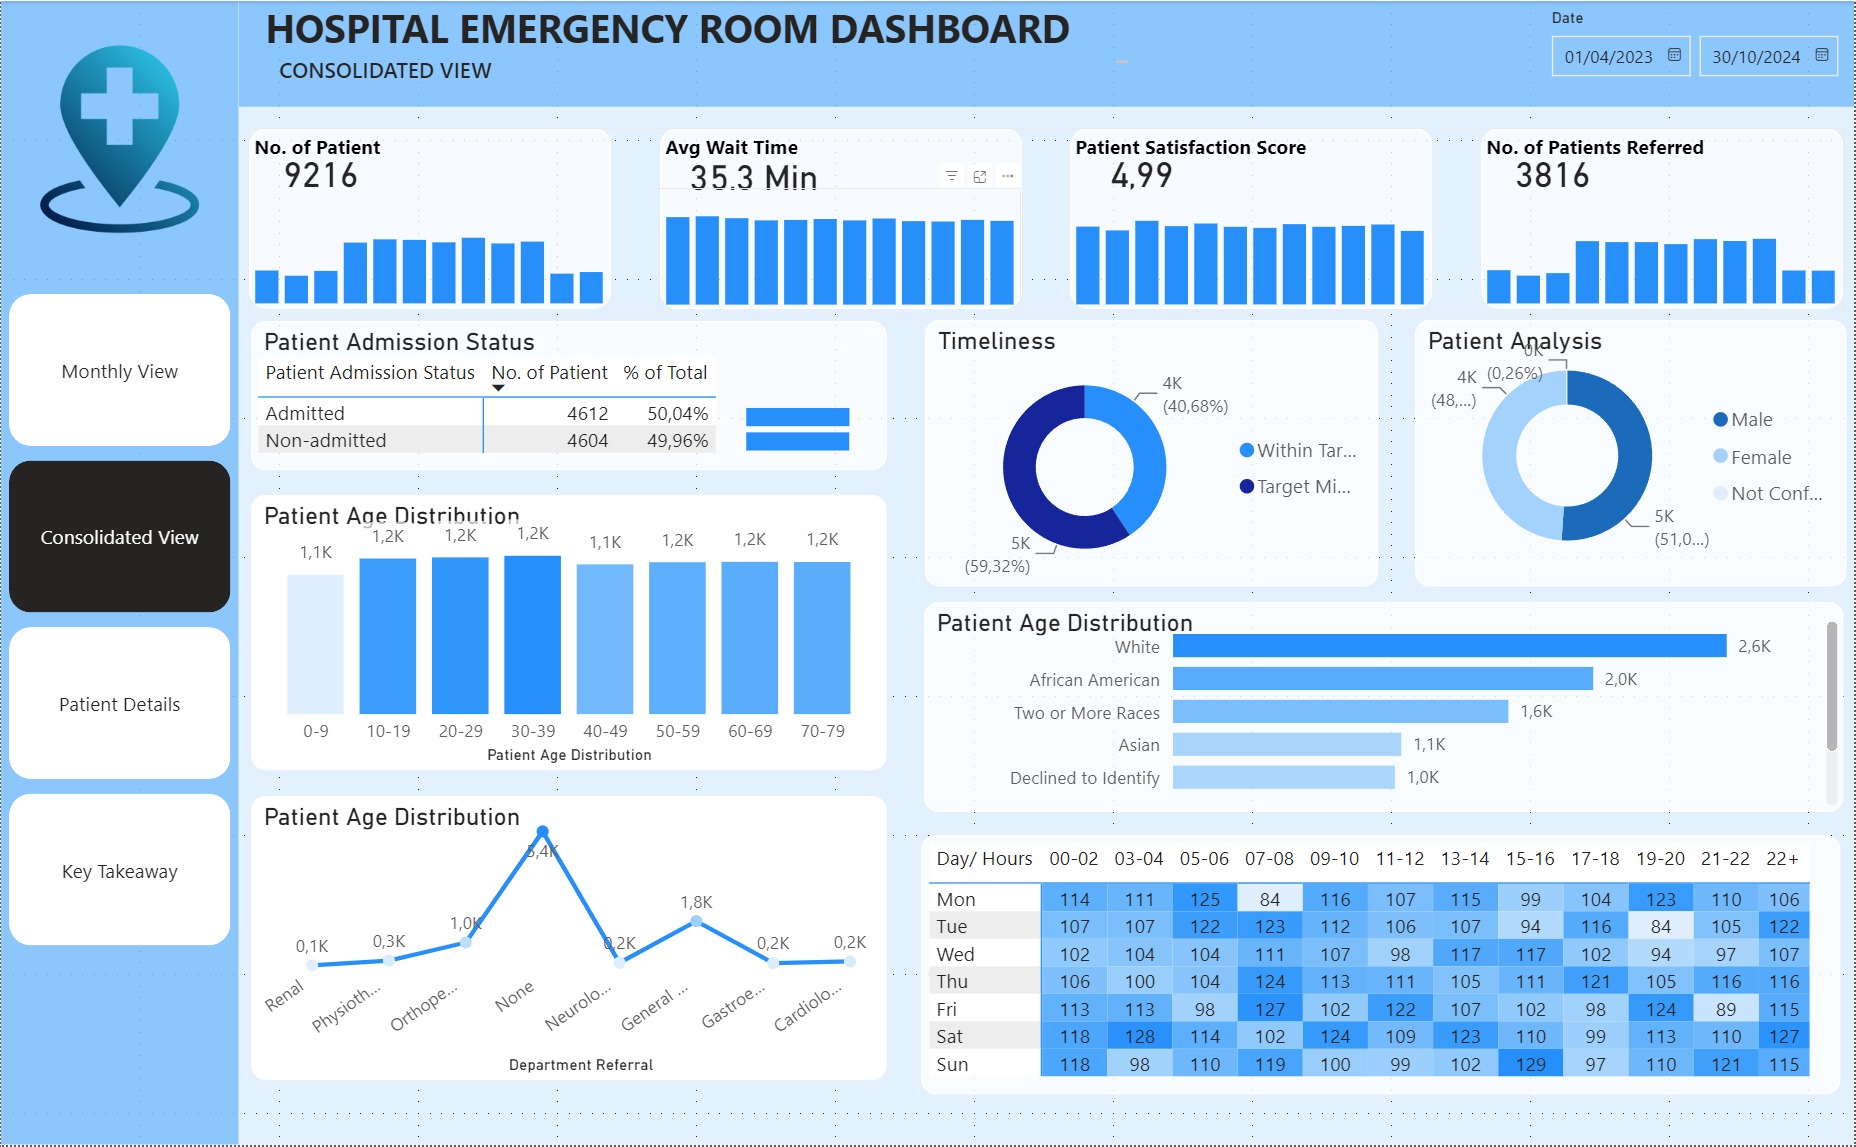

The dashboard page shown, as its layout file describes it:
{"tool":"powerbi","page":{"name":"Consolidated View","canvas":[1280,790],"ordinal":1},"visuals":[{"type":"shape","box":[0,0,164.5,789.7],"z":0},{"type":"shape","box":[171.6,87.7,250.5,124.8],"z":0,"group":"g4"},{"type":"shape","box":[455.6,87.7,250.2,125.1],"z":0,"group":"g3"},{"type":"shape","box":[738.8,87.7,250.5,124.8],"z":0,"group":"g2"},{"type":"group","id":"g1","title":"No. of Patients Referred","box":[1021.8,87.7,251.1,127.1],"z":0,"group":"g12"},{"type":"shape","box":[1022.4,87.7,250.5,124.8],"z":0,"group":"g1"},{"type":"textbox","title":"Timeliness","box":[638.3,220.4,313.5,183.8],"z":0,"group":"g8"},{"type":"textbox","title":"Patient Analysis","box":[976.7,220.4,297.7,184.2],"z":0,"group":"g9"},{"type":"textbox","title":"Patient Admission Status","box":[172.6,220.7,439.2,102.8],"z":0,"group":"g5"},{"type":"textbox","title":"Patient Age Distribution","box":[172.6,341.3,439.1,190.3],"z":0,"group":"g6"},{"type":"textbox","title":"Patient Age Distribution","box":[637.8,414.9,635,145.3],"z":0,"group":"g10"},{"type":"textbox","title":"Patient Age Distribution","box":[172.6,548.7,439.1,196.2],"z":0,"group":"g7"},{"type":"textbox","title":"Patient Age Distribution","box":[635.3,576,635.3,178.6],"z":500,"group":"g11"},{"type":"shape","box":[164.2,0,1115.6,73.5],"z":1000},{"type":"group","id":"g2","title":"Patient Satisfaction Score","box":[737.8,87.7,251.5,127.7],"z":1000,"group":"g12"},{"type":"card","fields":{"Values":["Hospital ER_Data.No Of Patient"]},"box":[174.1,95,93.5,47.9],"z":1000,"group":"g4"},{"type":"card","fields":{"Values":["Hospital ER_Data.Avg Patient Satisfaction Score"]},"box":[741.3,95,93.5,47.9],"z":1000,"group":"g2"},{"type":"card","fields":{"Values":["Hospital ER_Data.No. of Patients Referred"]},"box":[1024.9,95,93.5,47.9],"z":1000,"group":"g1"},{"type":"card","fields":{"Values":["Hospital ER_Data.Average Wait Time"]},"box":[458.4,99.4,124.3,43.9],"z":1000,"group":"g3"},{"type":"donutChart","fields":{"Category":["Hospital ER_Data.Patient Gender"],"Y":["Hospital ER_Data.No Of Patient"]},"box":[976.8,224.1,297.3,180.3],"z":1000,"group":"g9"},{"type":"donutChart","title":"No. of Patient by Patient Age Distribution","fields":{"Y":["Hospital ER_Data.Timeliness","Hospital ER_Data.Without Timeliness"]},"box":[637.8,238.8,314.1,165.8],"z":1000,"group":"g8"},{"type":"barChart","fields":{"Category":["Hospital ER_Data.Patient Admission Status"],"Y":["Hospital ER_Data.No Of Patient"]},"box":[509.8,259.1,102.7,65.1],"z":1000,"group":"g5"},{"type":"lineClusteredColumnComboChart","title":"No. of Patient by Patient Age Distribution","fields":{"Category":["Hospital ER_Data.Patient Age Distribution"],"Y":["Hospital ER_Data.No Of Patient"]},"box":[172.6,341.3,439.9,190.3],"z":1000,"group":"g6"},{"type":"clusteredBarChart","title":"No. of Patient by Patient Age Distribution","fields":{"Category":["Hospital ER_Data.Patient Race"],"Y":["Hospital ER_Data.No Of Patient"]},"box":[637.8,414.9,636.2,145.3],"z":1000,"group":"g10"},{"type":"lineChart","title":"No. of Patient by Patient Age Distribution","fields":{"Category":["Hospital ER_Data.Department Referral"],"Y":["Hospital ER_Data.No Of Patient"]},"box":[172.6,548.7,439.9,196.2],"z":1000,"group":"g7"},{"type":"pivotTable","fields":{"Values":["Hospital ER_Data.No Of Patient"],"Columns":["Hospital ER_Data.Patient volumne by day and hour"],"Rows":["Date Table.Day"]},"box":[635.9,576.8,635.3,177],"z":1000,"group":"g11"},{"type":"textbox","title":"HOSPITAL EMERGENCY ROOM DASHBOARD","box":[177.4,0,605.8,48.3],"z":2000},{"type":"group","id":"g3","title":"Avg Wait Time","box":[454.8,87.7,251,127.7],"z":2000,"group":"g12"},{"type":"clusteredColumnChart","fields":{"Category":["Date Table.Month"],"Y":["Hospital ER_Data.No Of Patient"]},"box":[170.8,128.8,250.5,86.4],"z":2000,"group":"g4"},{"type":"clusteredColumnChart","fields":{"Category":["Date Table.Month"],"Y":["Avg(Hospital ER_Data.Patient Waittime)"]},"box":[454.8,128.9,250.2,86.5],"z":2000,"group":"g3"},{"type":"clusteredColumnChart","fields":{"Category":["Date Table.Month"],"Y":["Hospital ER_Data.Avg Patient Satisfaction Score"]},"box":[737.8,130.4,250.5,85],"z":2000,"group":"g2"},{"type":"clusteredColumnChart","fields":{"Category":["Date Table.Month"],"Y":["Hospital ER_Data.No. of Patients Referred"]},"box":[1021.8,130.4,250.5,84.3],"z":2000,"group":"g1"},{"type":"pivotTable","fields":{"Rows":["Hospital ER_Data.Patient Admission Status"],"Values":["Hospital ER_Data.No Of Patient","Divide(Hospital ER_Data.No Of Patient, ScopedEval(Hospital ER_Data.No Of Patient, []))"]},"box":[172.7,240.6,335.9,83.2],"z":2000,"group":"g5"},{"type":"textbox","title":"CONSOLIDATED VIEW","box":[187.2,37.3,178.2,26.2],"z":3000},{"type":"group","id":"g4","title":"No. of Patients ","box":[170.8,87.7,251.3,127.5],"z":3000,"group":"g12"},{"type":"slicer","fields":{"Values":["Date Table.Date"]},"box":[1058.1,0,221.7,73.2],"z":4000},{"type":"group","id":"g5","title":"Patient Admission Status","box":[172.6,220.7,439.9,103.5],"z":5000},{"type":"group","id":"g6","title":"Patient Age Distribution","box":[172.6,341.3,439.9,190.3],"z":6000},{"type":"group","id":"g7","title":"Patient Age Distribution","box":[172.6,548.7,439.9,196.2],"z":7000},{"type":"group","id":"g8","title":"Timeliness","box":[637.8,220.4,313.9,184.5],"z":8000},{"type":"group","id":"g9","title":"Patient Age Distribution","box":[976.7,220.4,297.2,184.5],"z":9000},{"type":"group","id":"g10","title":"Racial Demographics","box":[637.8,414.9,636.1,145.3],"z":10000},{"type":"group","id":"g11","title":"Time Analysis","box":[635.3,576,635.9,178.6],"z":11000},{"type":"group","id":"g12","title":"Group 1","box":[170.8,87.7,1102.1,127.7],"z":12000},{"type":"pageNavigator","box":[5.8,202,153.6,450.8],"z":13000},{"type":"image","box":[0,30.4,164.4,129.8],"z":14000}]}

Visuals, with their boxes in screenshot pixels (x1, y1, x2, y2), scaled from the page's 1280x790 canvas onto the 1856x1147 screenshot:
shape: [left=0, top=0, right=239, bottom=1146]
shape: [left=249, top=127, right=612, bottom=309]
shape: [left=661, top=127, right=1023, bottom=309]
shape: [left=1071, top=127, right=1434, bottom=309]
"No. of Patients Referred" group: [left=1482, top=127, right=1846, bottom=312]
shape: [left=1482, top=127, right=1846, bottom=309]
"Timeliness" textbox: [left=926, top=320, right=1380, bottom=587]
"Patient Analysis" textbox: [left=1416, top=320, right=1848, bottom=587]
"Patient Admission Status" textbox: [left=250, top=320, right=887, bottom=470]
"Patient Age Distribution" textbox: [left=250, top=496, right=887, bottom=772]
"Patient Age Distribution" textbox: [left=925, top=602, right=1846, bottom=813]
"Patient Age Distribution" textbox: [left=250, top=797, right=887, bottom=1082]
"Patient Age Distribution" textbox: [left=921, top=836, right=1842, bottom=1096]
shape: [left=238, top=0, right=1855, bottom=107]
"Patient Satisfaction Score" group: [left=1070, top=127, right=1434, bottom=313]
card - Hospital ER_Data.No Of Patient: [left=252, top=138, right=388, bottom=207]
card - Hospital ER_Data.Avg Patient Satisfaction Score: [left=1075, top=138, right=1210, bottom=207]
card - Hospital ER_Data.No. of Patients Referred: [left=1486, top=138, right=1622, bottom=207]
card - Hospital ER_Data.Average Wait Time: [left=665, top=144, right=845, bottom=208]
donutChart - Hospital ER_Data.Patient Gender x Hospital ER_Data.No Of Patient: [left=1416, top=325, right=1847, bottom=587]
"No. of Patient by Patient Age Distribution" donutChart: [left=925, top=347, right=1380, bottom=587]
barChart - Hospital ER_Data.Patient Admission Status x Hospital ER_Data.No Of Patient: [left=739, top=376, right=888, bottom=471]
"No. of Patient by Patient Age Distribution" lineClusteredColumnComboChart: [left=250, top=496, right=888, bottom=772]
"No. of Patient by Patient Age Distribution" clusteredBarChart: [left=925, top=602, right=1847, bottom=813]
"No. of Patient by Patient Age Distribution" lineChart: [left=250, top=797, right=888, bottom=1082]
pivotTable - Hospital ER_Data.No Of Patient x Hospital ER_Data.Patient volumne by day and hour: [left=922, top=837, right=1843, bottom=1094]
"HOSPITAL EMERGENCY ROOM DASHBOARD" textbox: [left=257, top=0, right=1136, bottom=70]
"Avg Wait Time" group: [left=659, top=127, right=1023, bottom=313]
clusteredColumnChart - Date Table.Month x Hospital ER_Data.No Of Patient: [left=248, top=187, right=611, bottom=312]
clusteredColumnChart - Date Table.Month x Avg(Hospital ER_Data.Patient Waittime): [left=659, top=187, right=1022, bottom=313]
clusteredColumnChart - Date Table.Month x Hospital ER_Data.Avg Patient Satisfaction Score: [left=1070, top=189, right=1433, bottom=313]
clusteredColumnChart - Date Table.Month x Hospital ER_Data.No. of Patients Referred: [left=1482, top=189, right=1845, bottom=312]
pivotTable - Hospital ER_Data.Patient Admission Status x Hospital ER_Data.No Of Patient: [left=250, top=349, right=737, bottom=470]
"CONSOLIDATED VIEW" textbox: [left=271, top=54, right=530, bottom=92]
"No. of Patients " group: [left=248, top=127, right=612, bottom=312]
slicer - Date Table.Date: [left=1534, top=0, right=1855, bottom=106]
"Patient Admission Status" group: [left=250, top=320, right=888, bottom=471]
"Patient Age Distribution" group: [left=250, top=496, right=888, bottom=772]
"Patient Age Distribution" group: [left=250, top=797, right=888, bottom=1082]
"Timeliness" group: [left=925, top=320, right=1380, bottom=588]
"Patient Age Distribution" group: [left=1416, top=320, right=1847, bottom=588]
"Racial Demographics" group: [left=925, top=602, right=1847, bottom=813]
"Time Analysis" group: [left=921, top=836, right=1843, bottom=1096]
"Group 1" group: [left=248, top=127, right=1846, bottom=313]
pageNavigator: [left=8, top=293, right=231, bottom=948]
image: [left=0, top=44, right=238, bottom=233]
